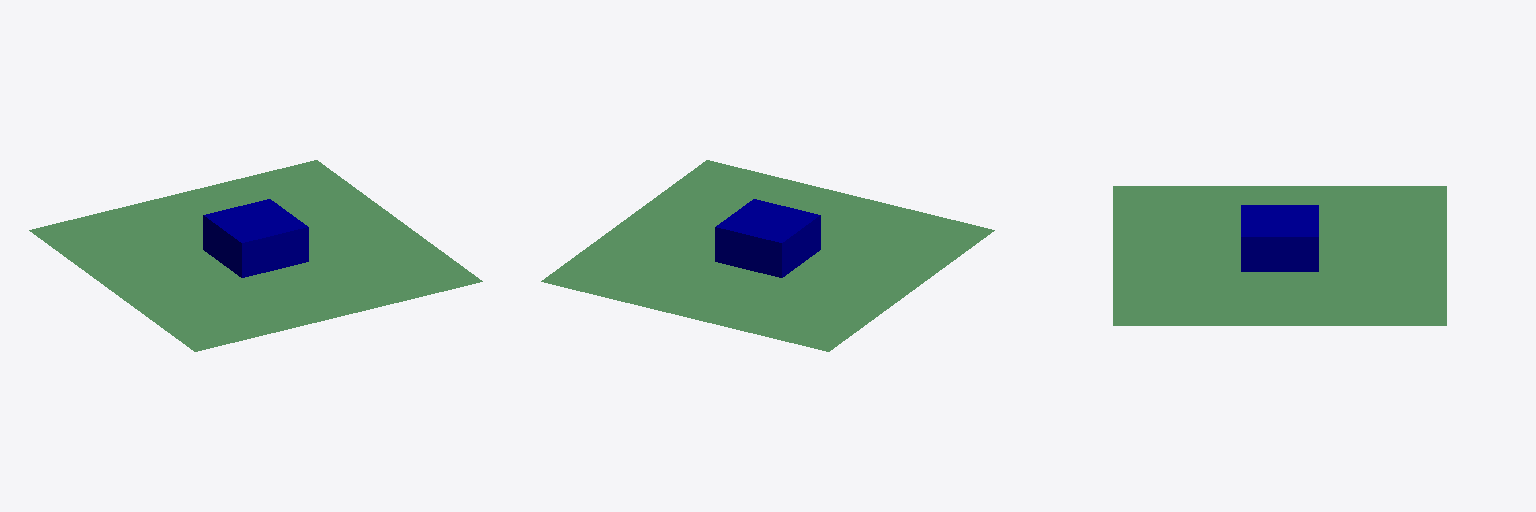
File: lods.obj
The picture shows the model from 3 angles: view 1: azimuth 30°, elevation 25°; view 2: azimuth 150°, elevation 25°; view 3: azimuth 270°, elevation 25°; orthographic projection.
Visible parts, largest first — view 1: floor, cube_3; view 2: floor, cube_3; view 3: floor, cube_3.
Boxes of the visible parts, box(x1,y1,x2,y2) form: floor: box(29, 160, 482, 351); cube_3: box(203, 199, 308, 277); floor: box(541, 160, 994, 351); cube_3: box(715, 199, 820, 277); floor: box(1113, 186, 1446, 325); cube_3: box(1241, 205, 1318, 271).
Size of the model in its own units: 8.64 by 2 by 8.64.